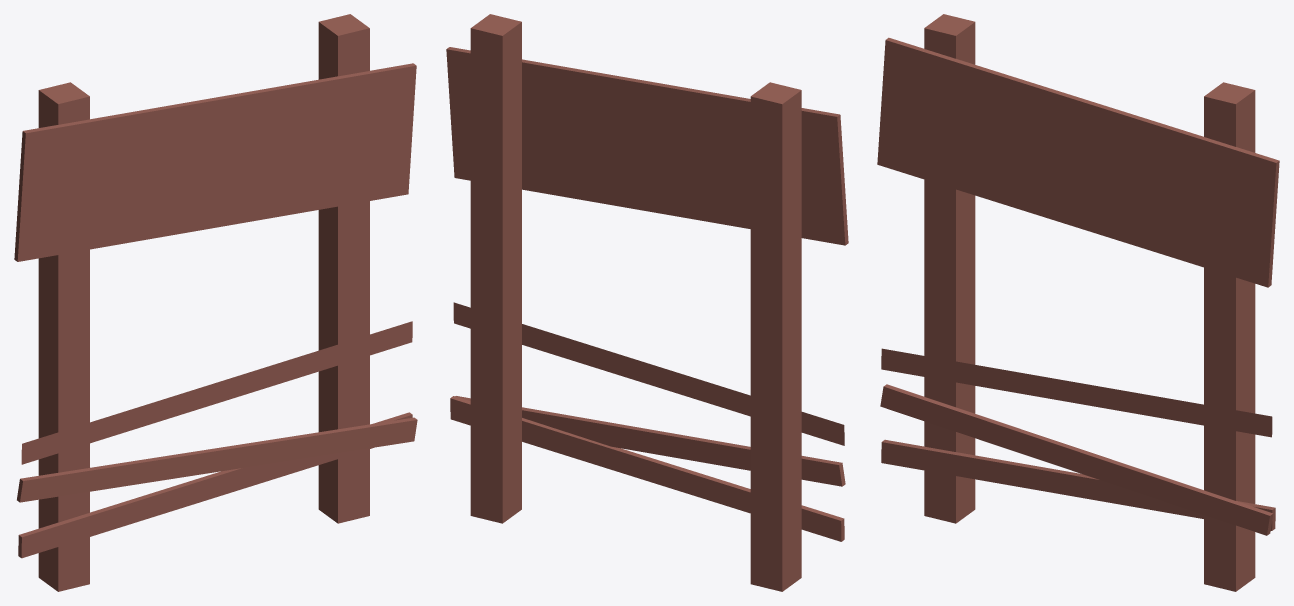
Rendered from gate.glb.
3 renders of one model, left to right at view 1: azimuth 30°, elevation 25°; view 2: azimuth 150°, elevation 25°; view 3: azimuth 330°, elevation 25°, orthographic.
Visible parts, largest first — view 1: gate; view 2: gate; view 3: gate.
Part boxes in pixels (x1=…): gate: x1=14, y1=14, x2=417, y2=591; gate: x1=446, y1=14, x2=848, y2=591; gate: x1=877, y1=14, x2=1279, y2=591.
Bounding box in the file's own units: 3.42 × 4 × 0.3888.
